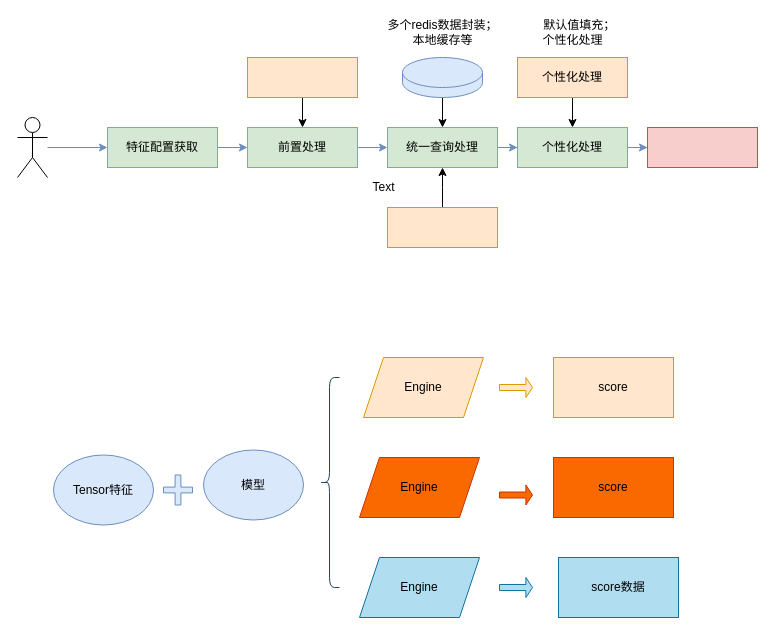
Some shapes in this 775 by 635 pixel diagram are drawn without their labels. Each missing label, with the box of its shape:
redis名称转换 redis依赖关系: (386, 206, 498, 248)
特征来自请求参数: (246, 56, 358, 98)
规范化数据: (646, 126, 758, 168)
请求: (16, 116, 48, 178)
